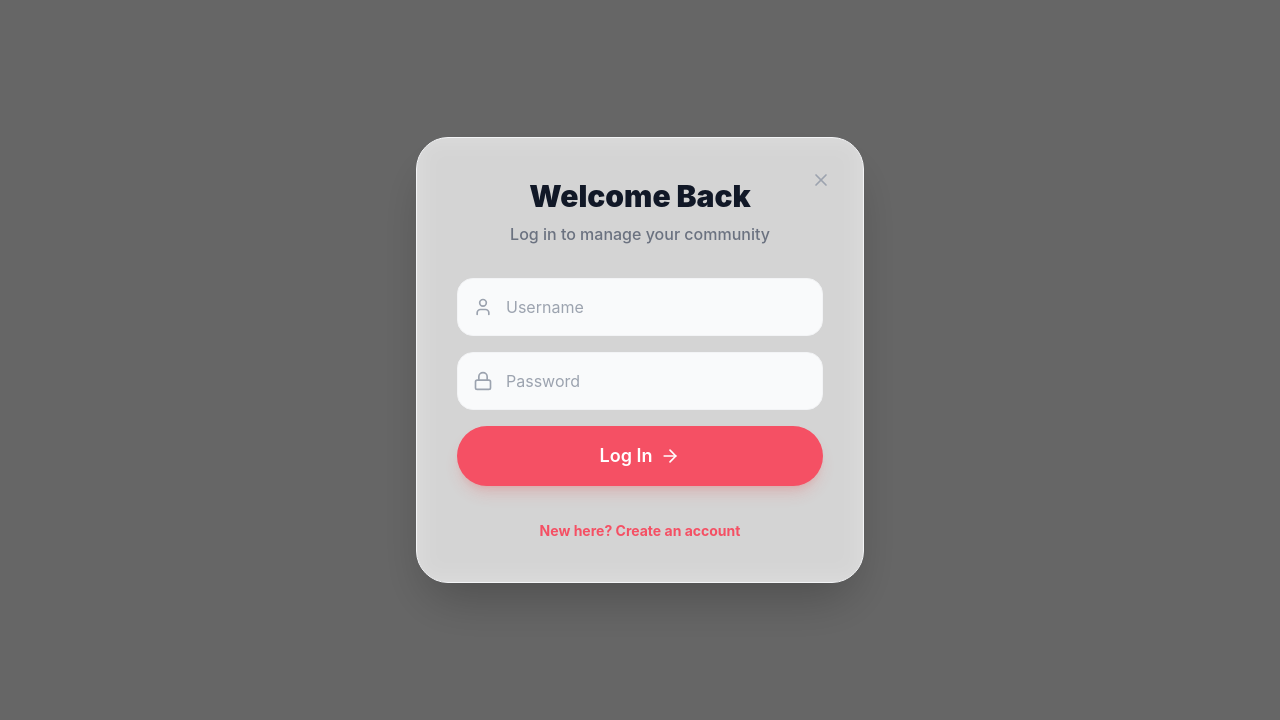
Test: AuthModal Component › shows error message on failure
The image size is (1280, 720).
Type "baduser" into the field with placeholder "Username" at (640, 307), box 457,278 -> 823,336
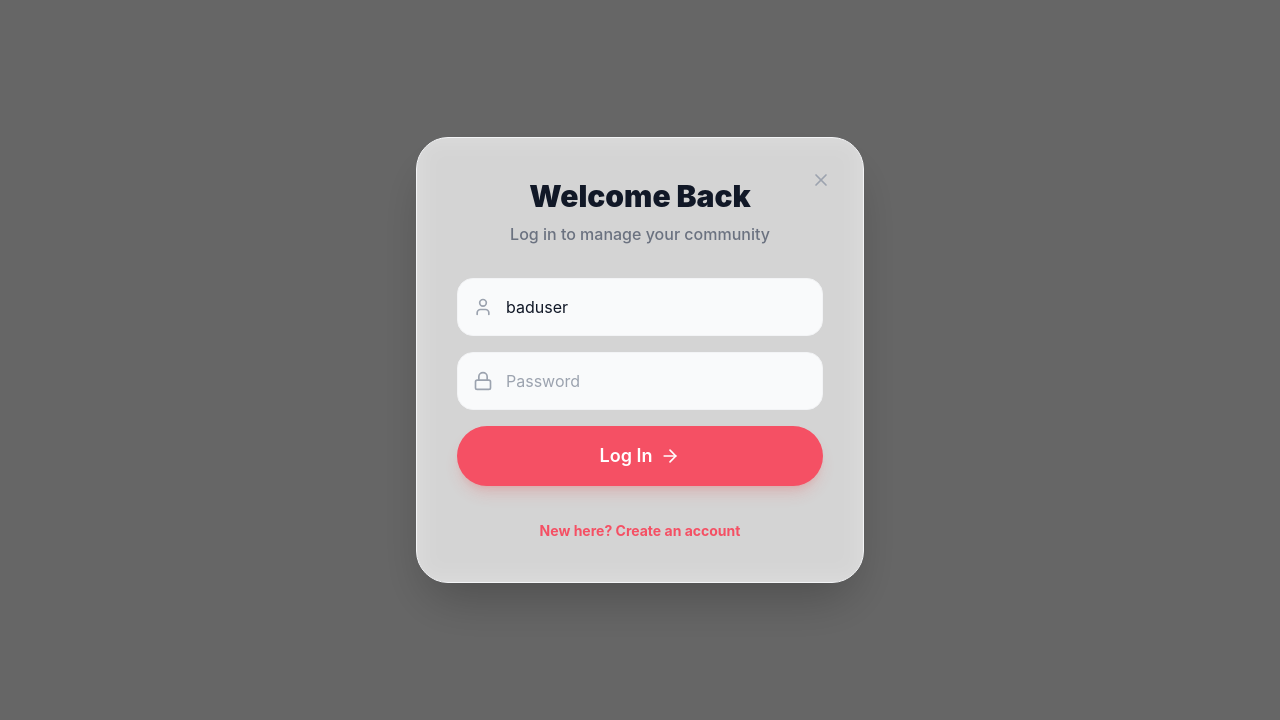
Type "wrongpass" into the password field with placeholder "Password" at (640, 381), box 457,352 -> 823,410
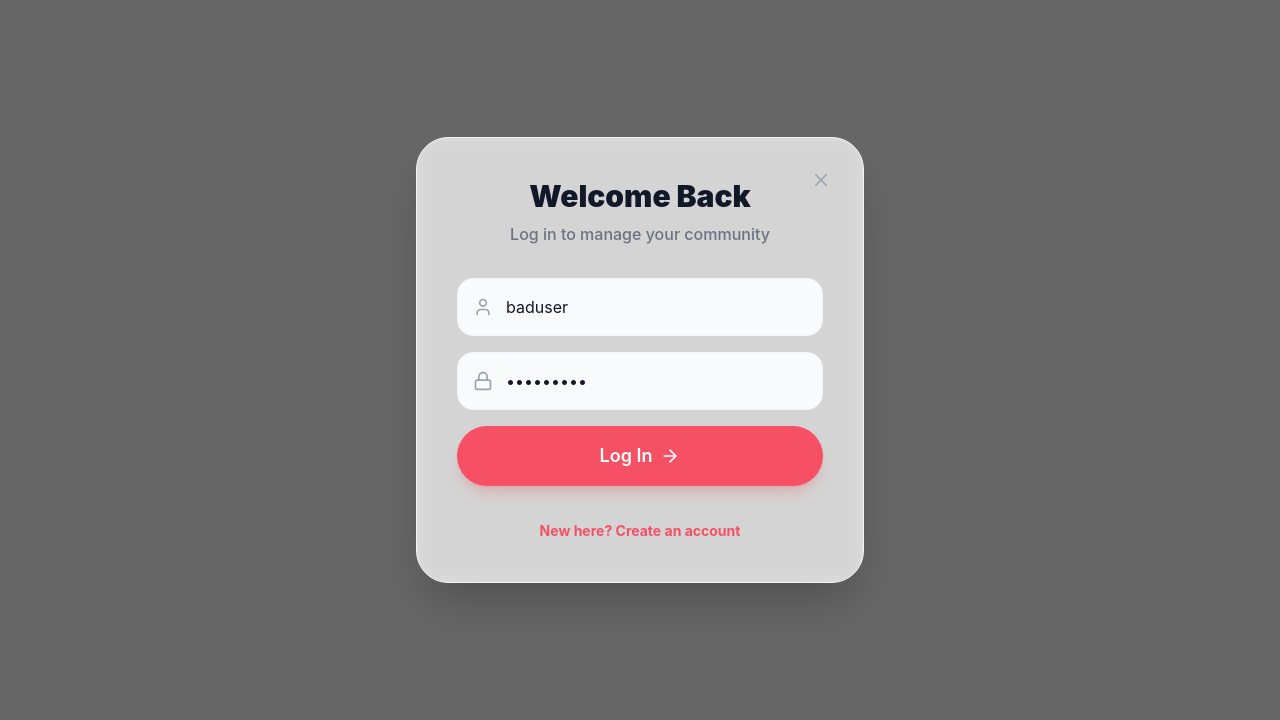
Click the button "Log In" at (640, 456), box 457,426 -> 823,486
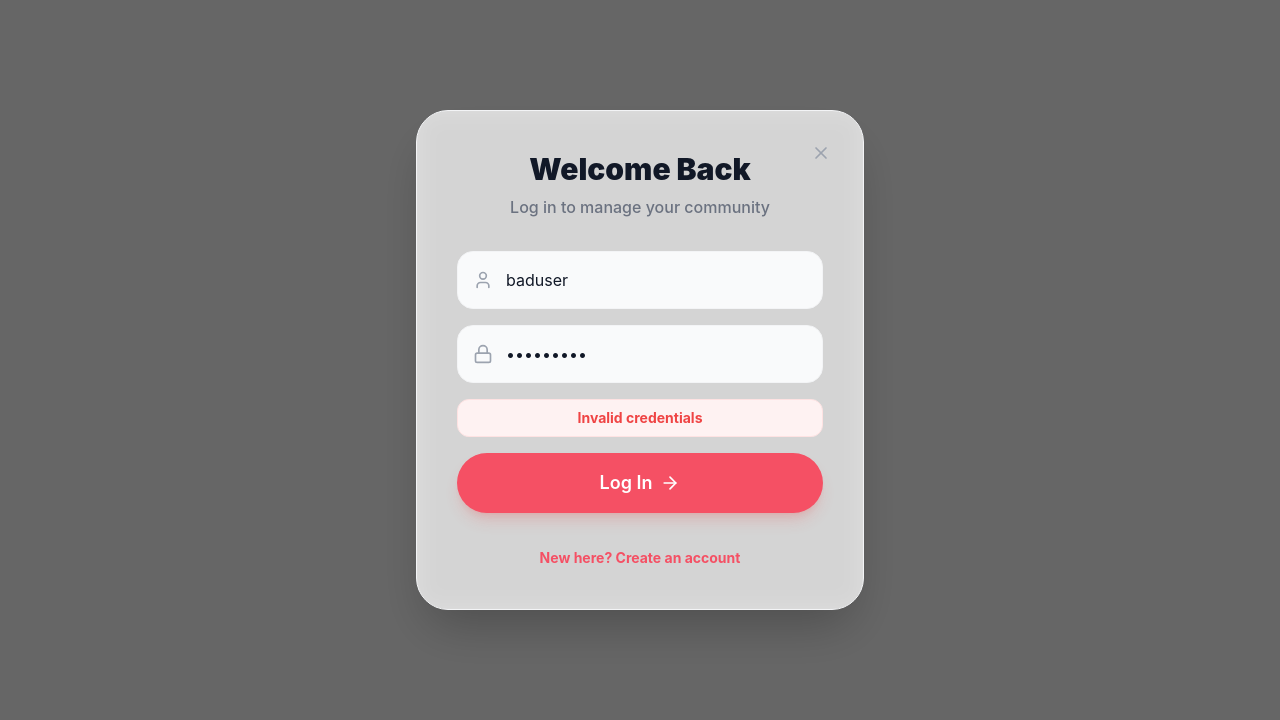
Expected: the text "Invalid credentials" is shown, 457,399 -> 823,437
